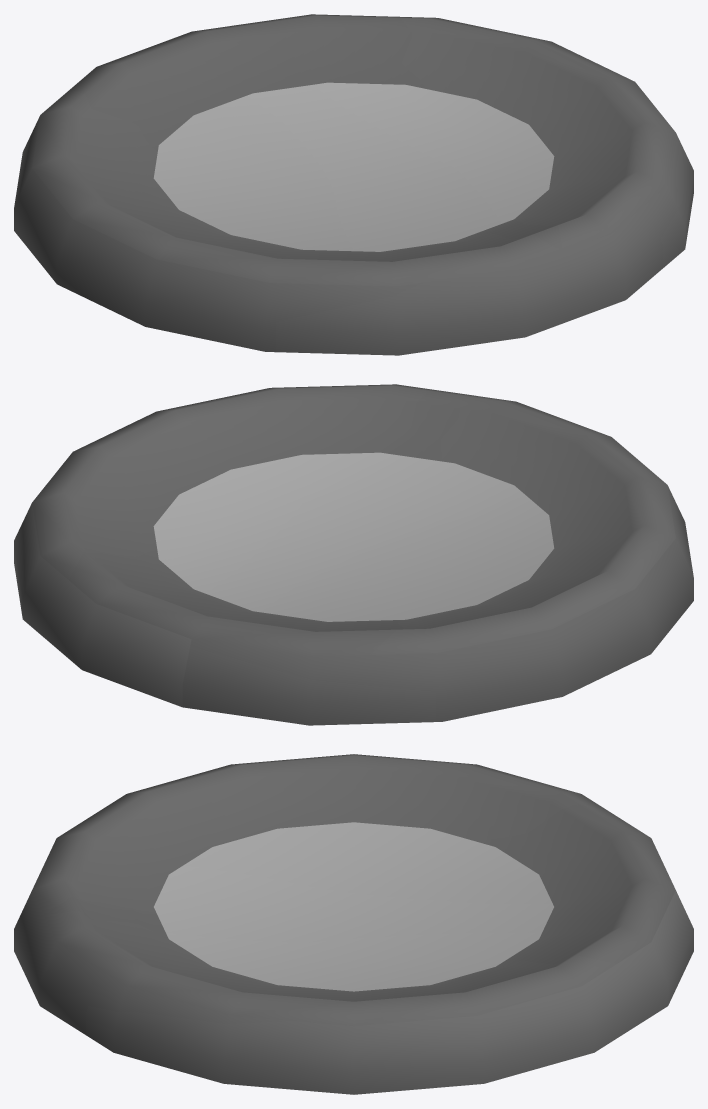
Rendered from DogBed.glb.
The picture shows the model from 3 angles, top to bottom: view 1: azimuth 30°, elevation 25°; view 2: azimuth 150°, elevation 25°; view 3: azimuth 270°, elevation 25°; orthographic projection.
Parts seen in each view (by area): view 1: DogBed; view 2: DogBed; view 3: DogBed.
Part boxes in pixels (x1,y1,x2,y2): DogBed: (14,14,693,355); DogBed: (14,384,693,725); DogBed: (14,754,693,1094).
Size of the model in its own units: 2 by 0.2348 by 2.
1 material, 1 textured.
